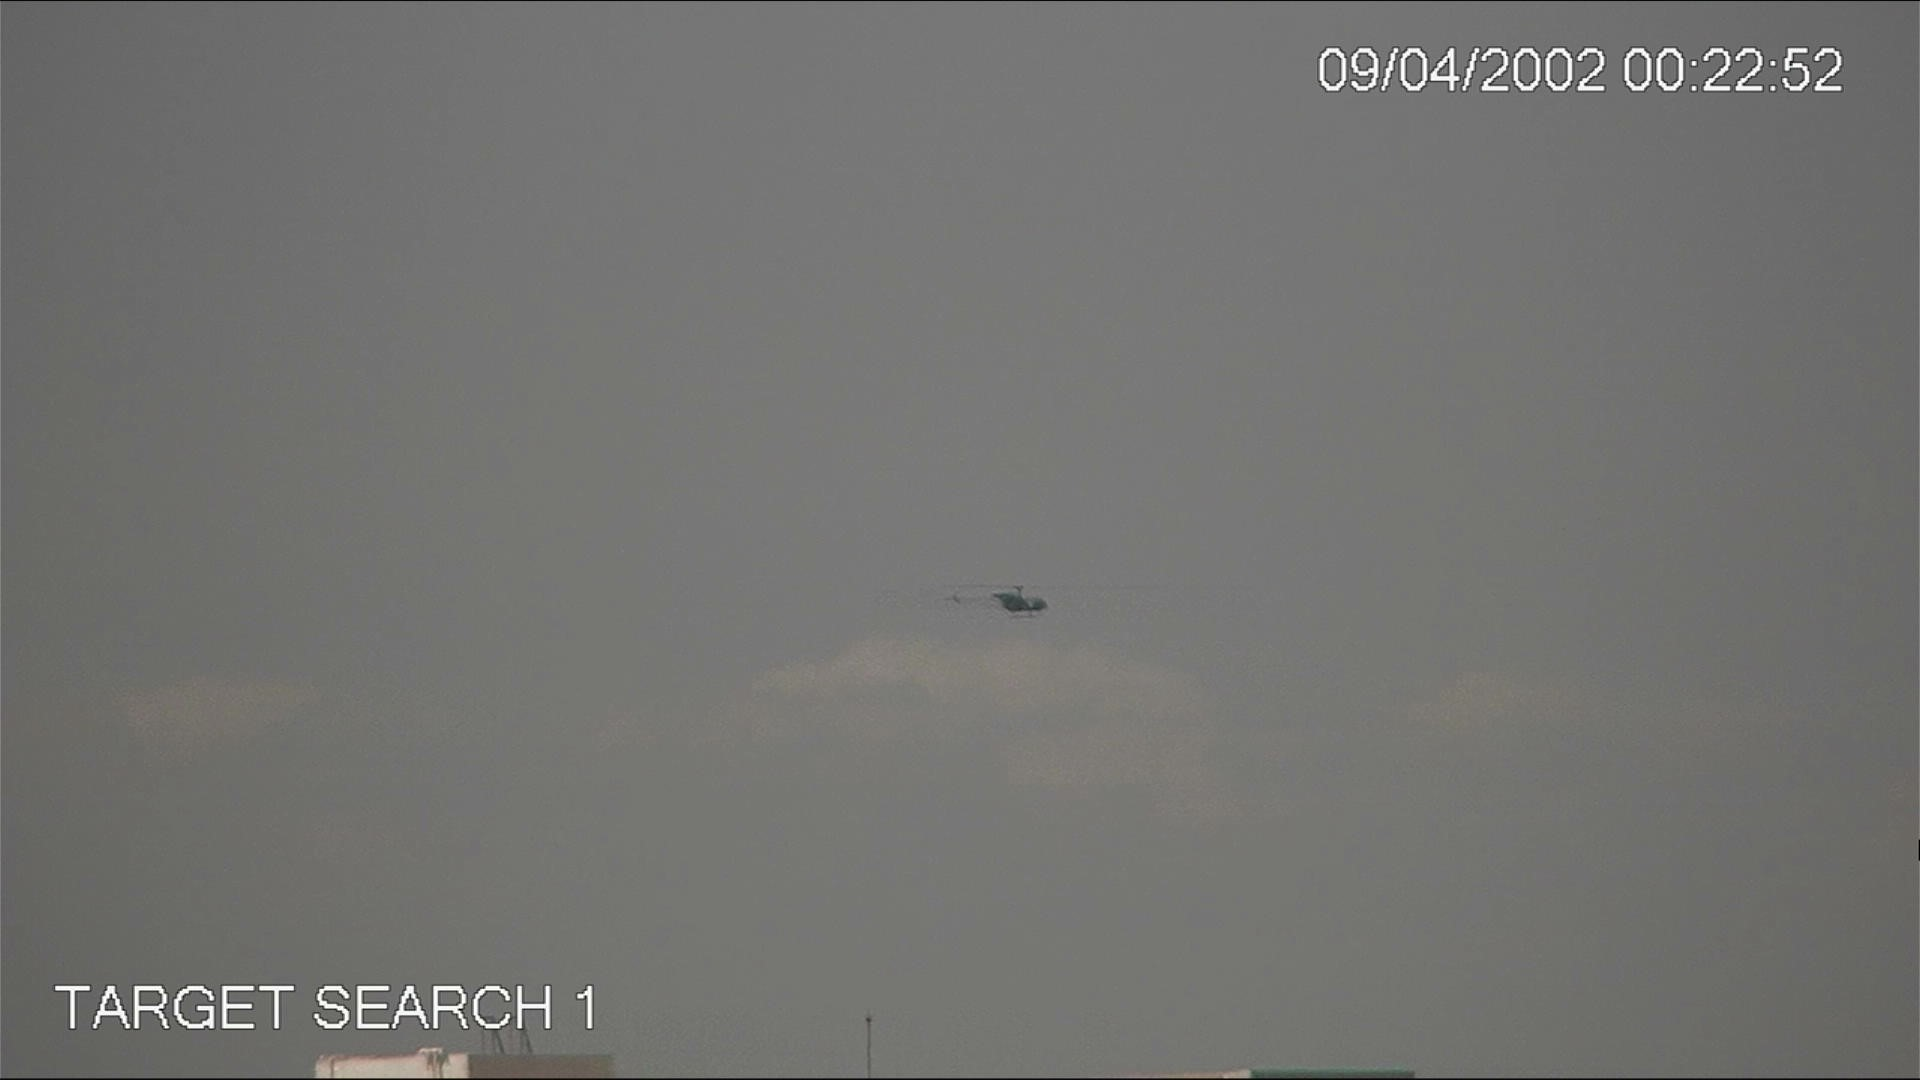SU_30: (945, 564, 1054, 626)
